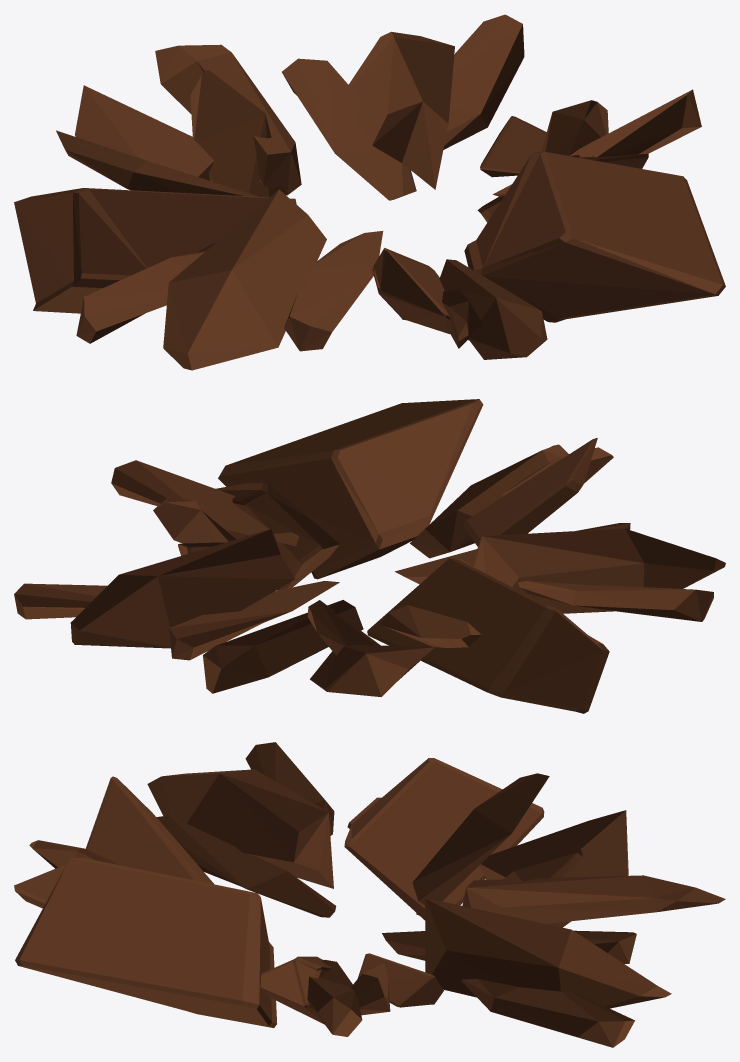
File: Circle_Rocks.fbx
3 views of the same model, one above another, from view 1: azimuth 30°, elevation 25°; view 2: azimuth 150°, elevation 25°; view 3: azimuth 270°, elevation 25° (orthographic). The views are drawn at different scales.
Parts seen in each view (by area): view 1: SM_IceCircle01; view 2: SM_IceCircle01; view 3: SM_IceCircle01.
Boxes of the visible parts, <box> form: SM_IceCircle01: <box>14,14,725,370</box>; SM_IceCircle01: <box>14,399,725,713</box>; SM_IceCircle01: <box>14,742,725,1047</box>.
Bounding box in the file's own units: 744 × 174 × 778.
